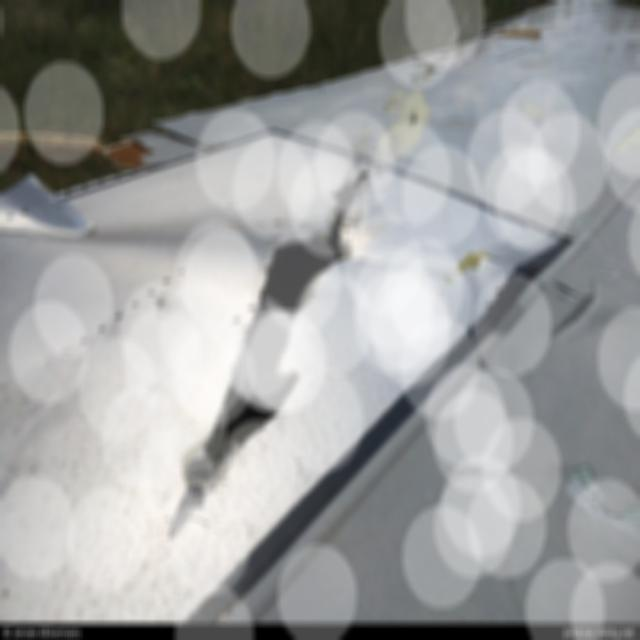crack: (552, 279, 598, 338)
